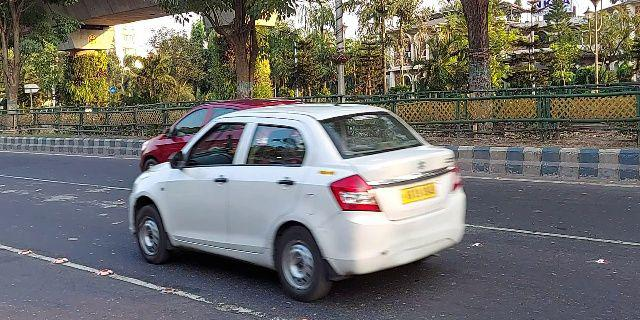Car: (125, 102, 470, 299)
